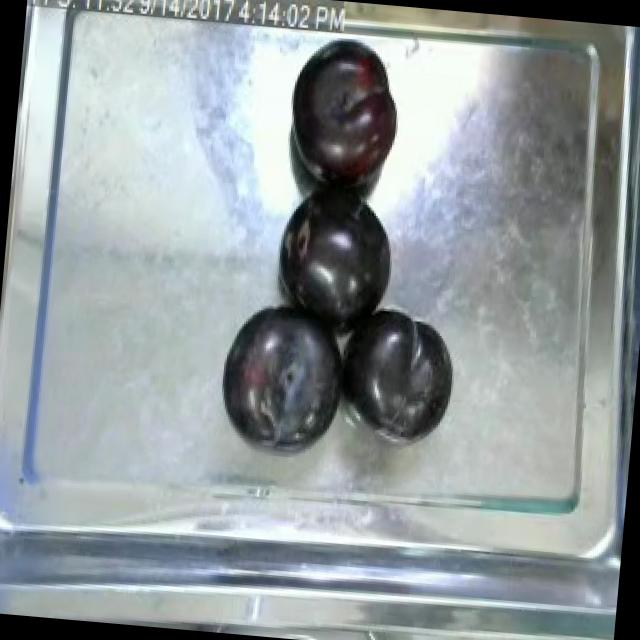Fruit: (208, 289, 358, 459), (277, 36, 410, 202), (274, 166, 403, 332), (328, 297, 466, 446)
